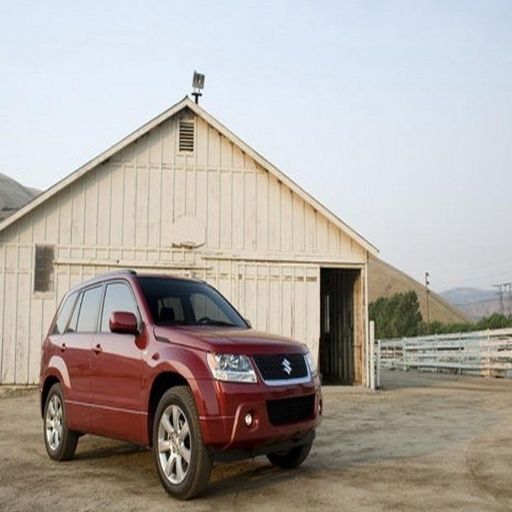front_bumper: (201, 353, 320, 451)
front_right_door: (92, 277, 144, 433)
front_right_light: (206, 351, 256, 383)
